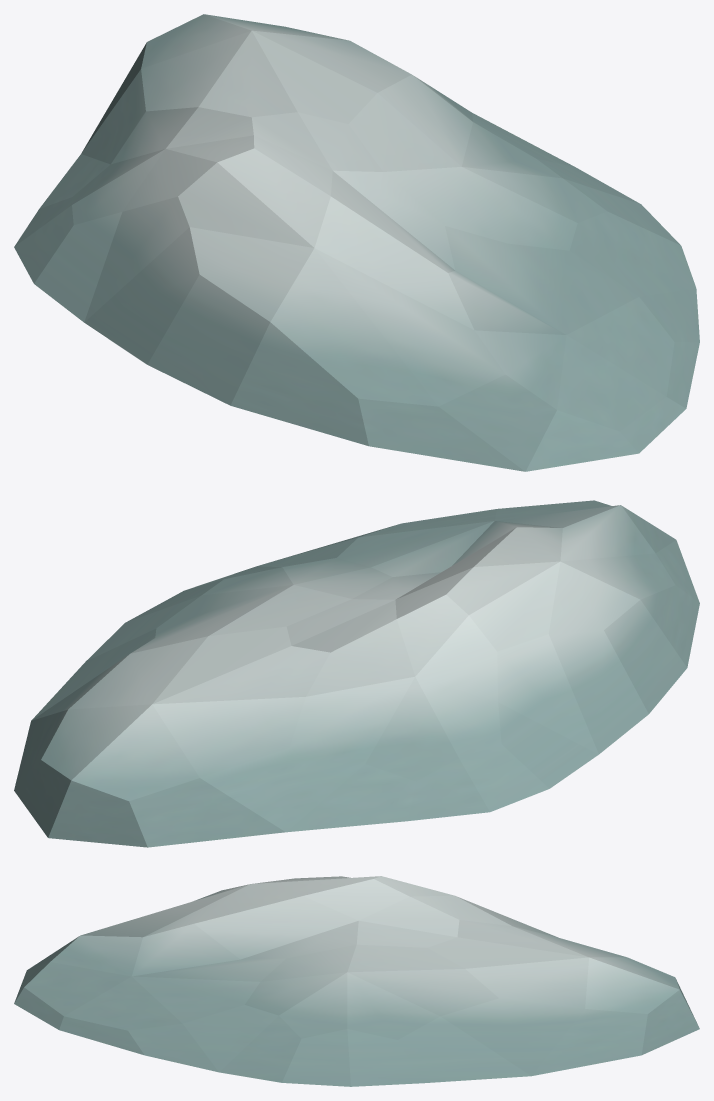
Rendered from snow_mound_B.obj.
3 views of the same model, one above another, from view 1: azimuth 30°, elevation 25°; view 2: azimuth 150°, elevation 25°; view 3: azimuth 270°, elevation 25° (orthographic). The views are drawn at different scales.
Parts seen in each view (by area): view 1: snow_mound_B; view 2: snow_mound_B; view 3: snow_mound_B.
Part boxes in pixels (left/top/right/bottom): snow_mound_B: left=14, top=14, right=699, bottom=471; snow_mound_B: left=14, top=500, right=699, bottom=847; snow_mound_B: left=14, top=876, right=699, bottom=1086.
Bounding box in the file's own units: 3.52 × 0.8341 × 5.86.
